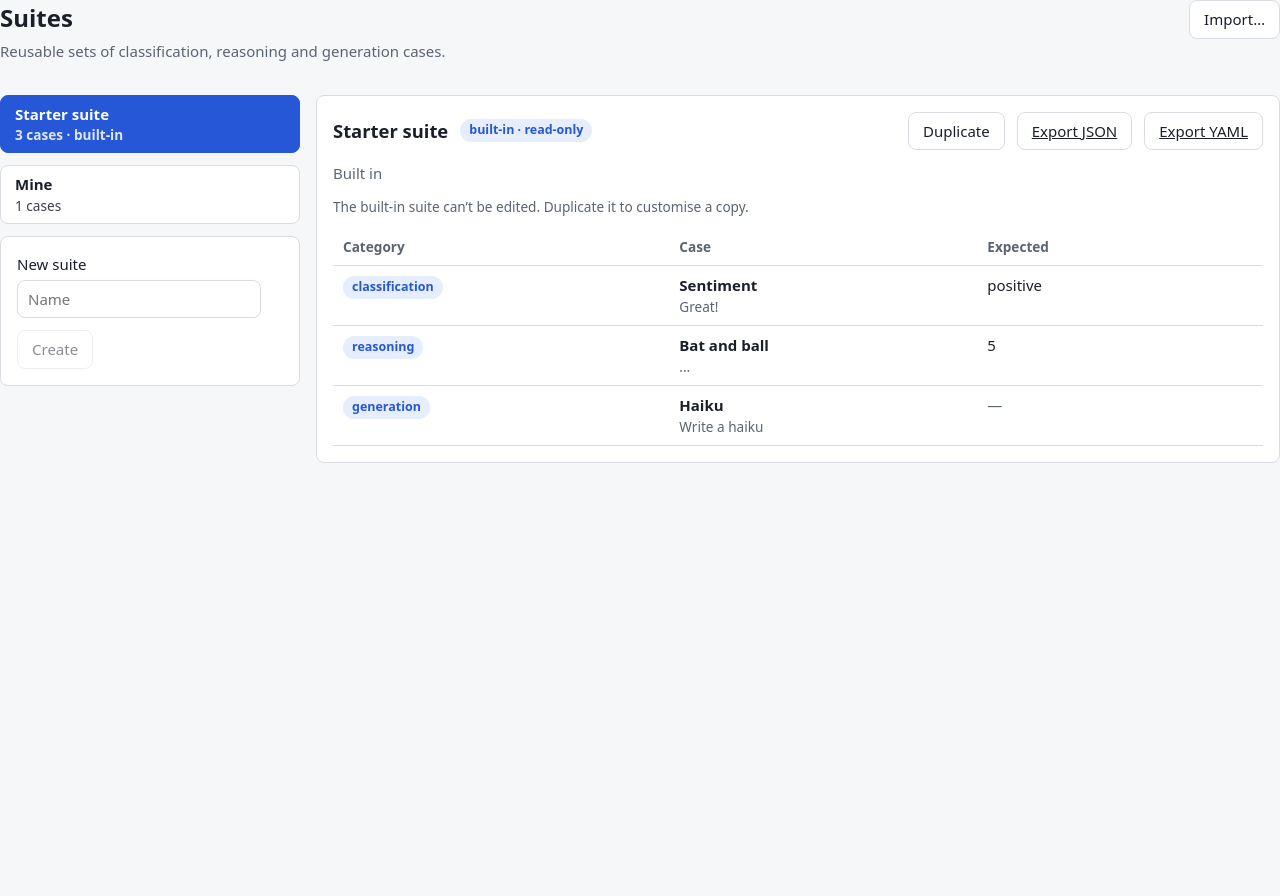
Test case: 9.9 suites page › imports a suite and lists per-field errors when the file is invalid
Expected: the element named "Suite Starter suite" is shown, [316,94,1279,463]
Click the button "Import…": point(1235, 19) [1189,0,1279,38]
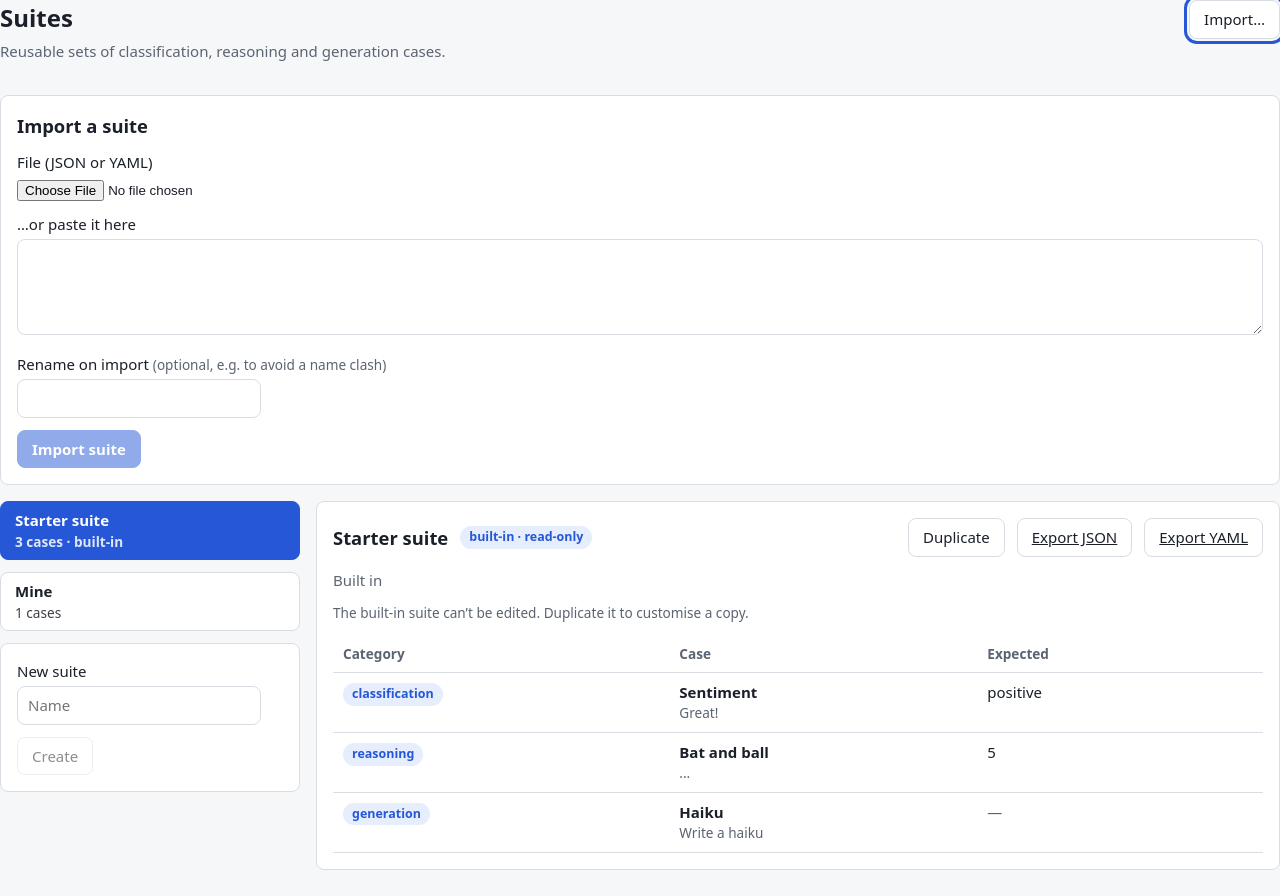
Click the text box labelled "…or paste it here": point(640, 287) [17,239,1263,335]
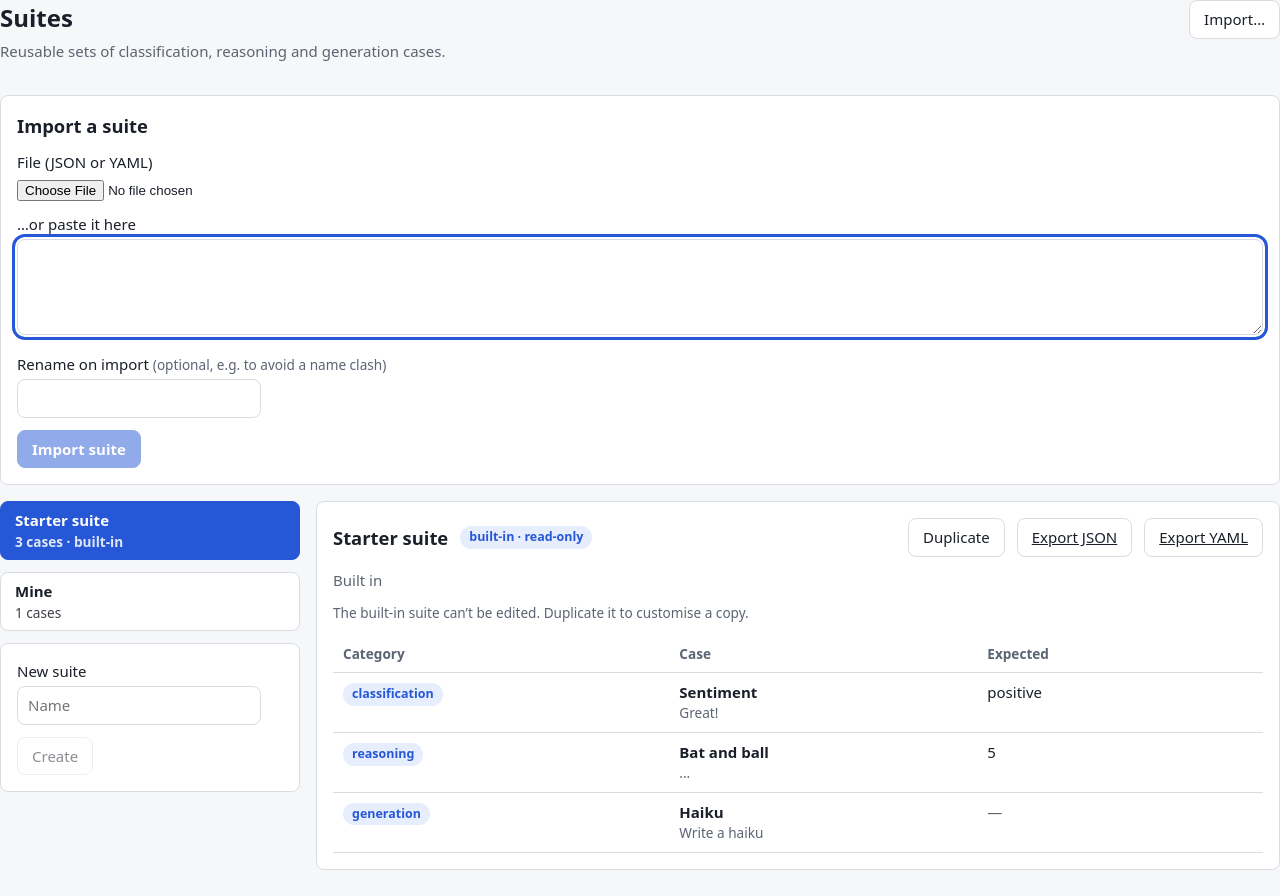
Type keys "{\"name\":\"bad\"}"
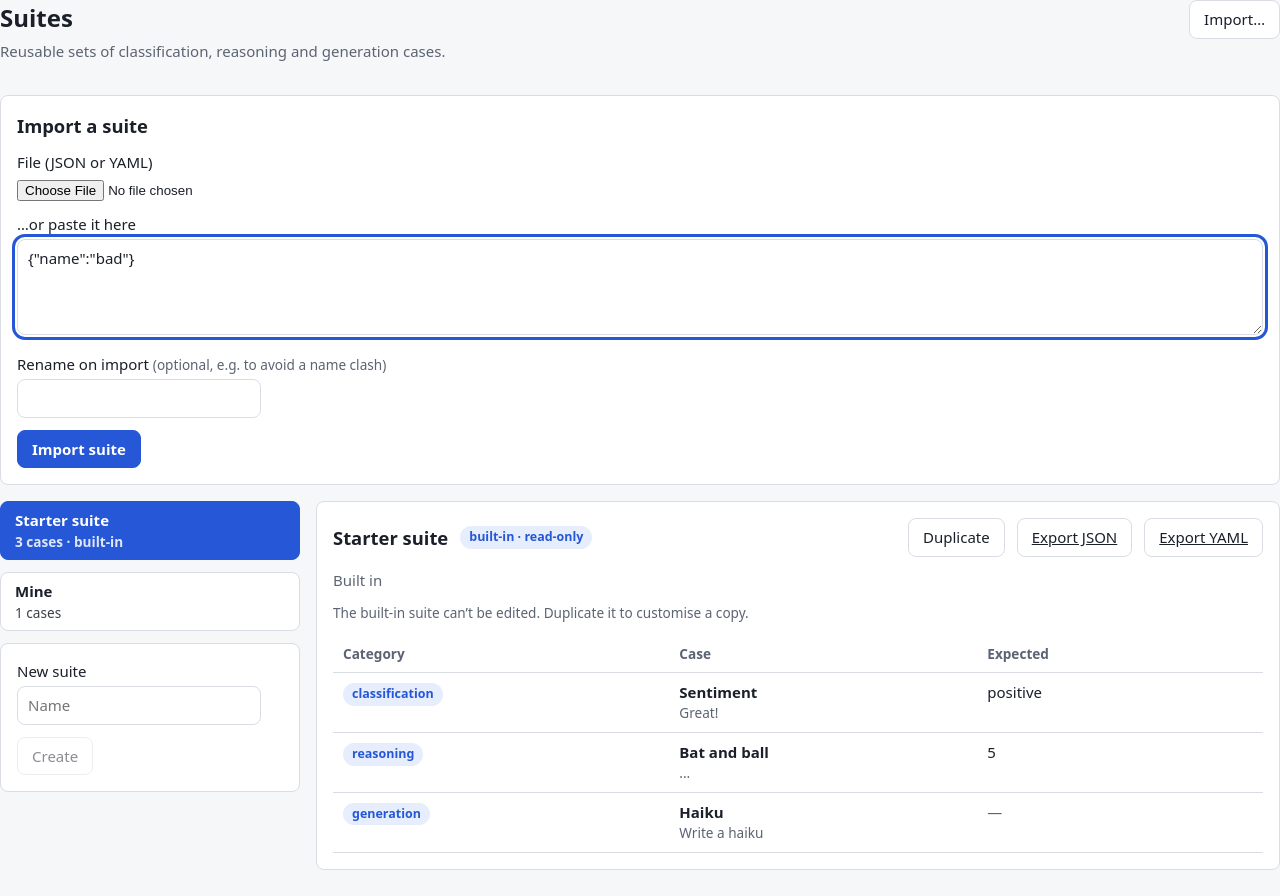
Click the button "Import suite": point(79, 449) [17,430,141,468]
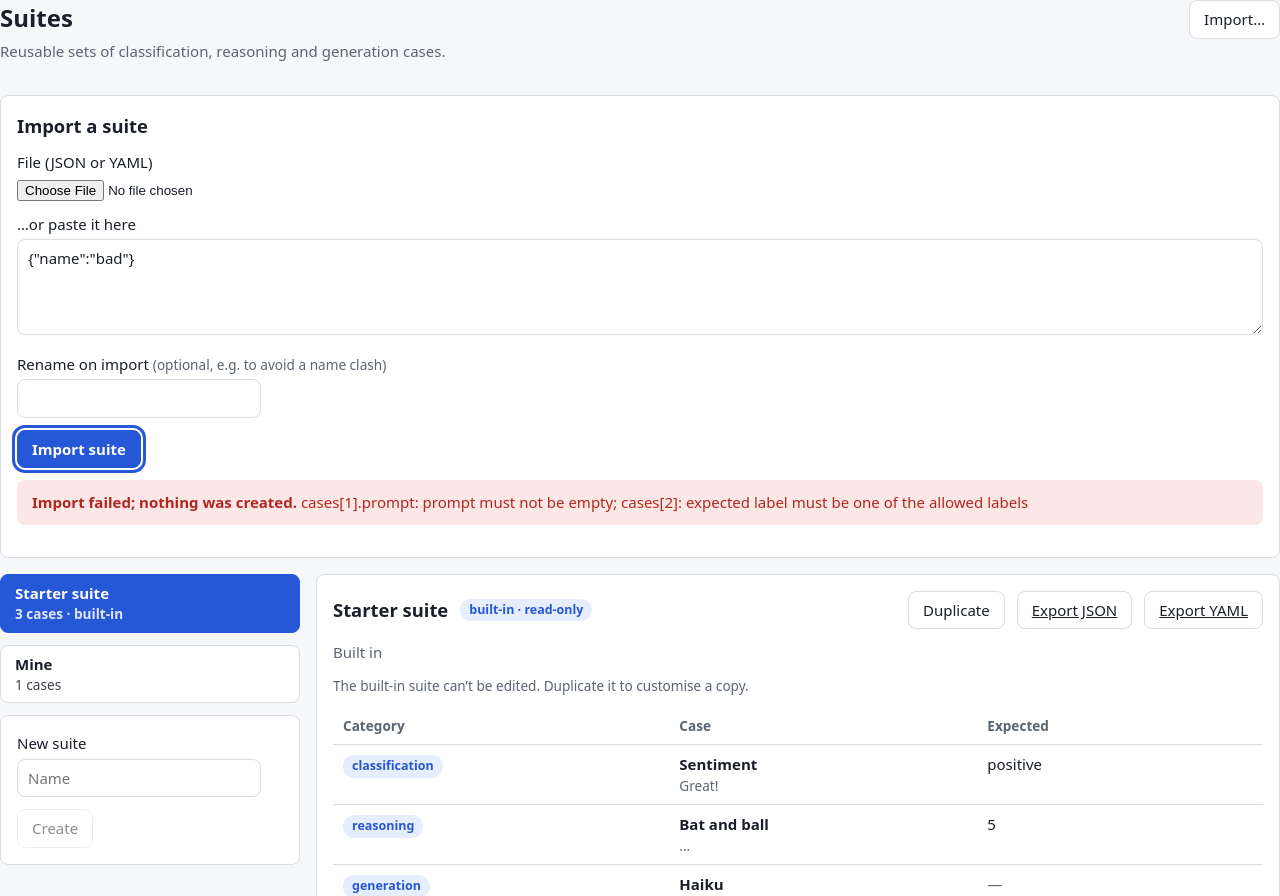
Result: the message shows "nothing was created" at [32,492,297,512]
Result: the message shows "cases[1].prompt: prompt must not be empty" at [301,492,1028,512]
Result: the message shows "cases[2]: expected label must be one of the allowed labels" at [301,492,1028,512]
